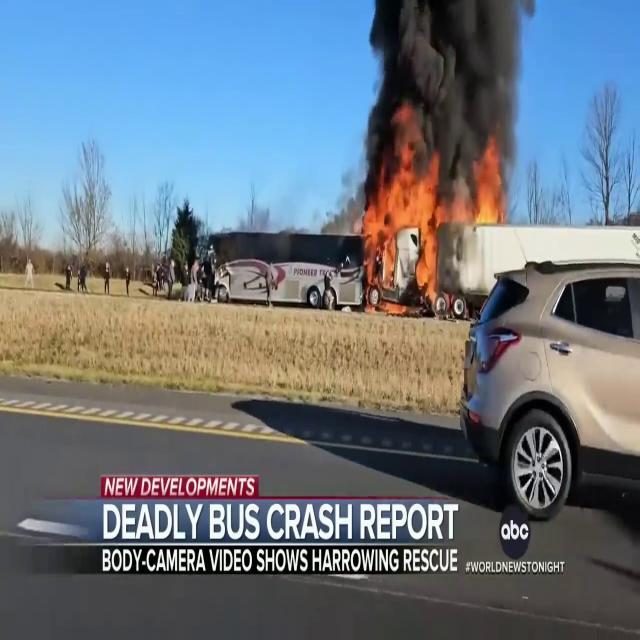Fire: (356, 130, 517, 308)
Smoke: (361, 0, 533, 172)
